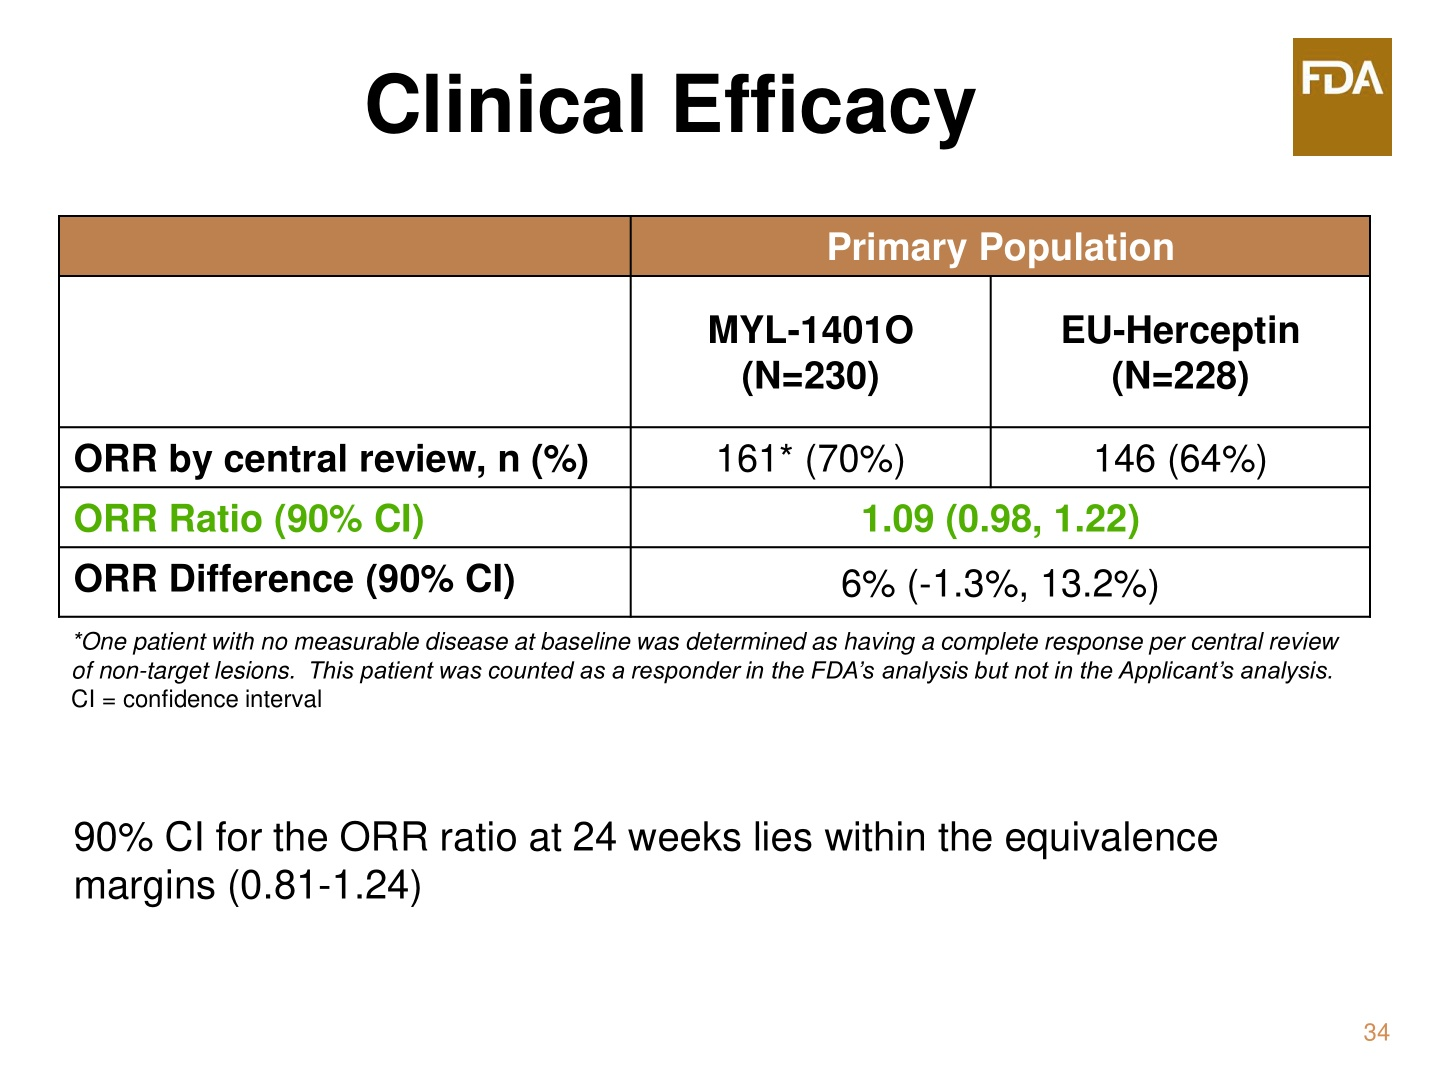merged_cells: (58, 214, 1371, 618)
